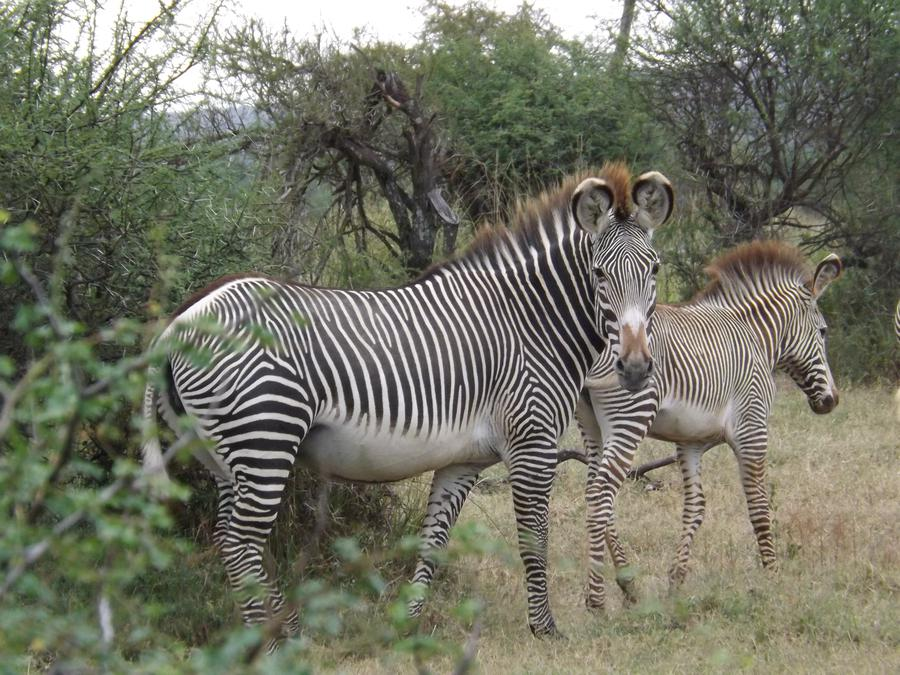zebra_grevys: (144, 259, 564, 450)
